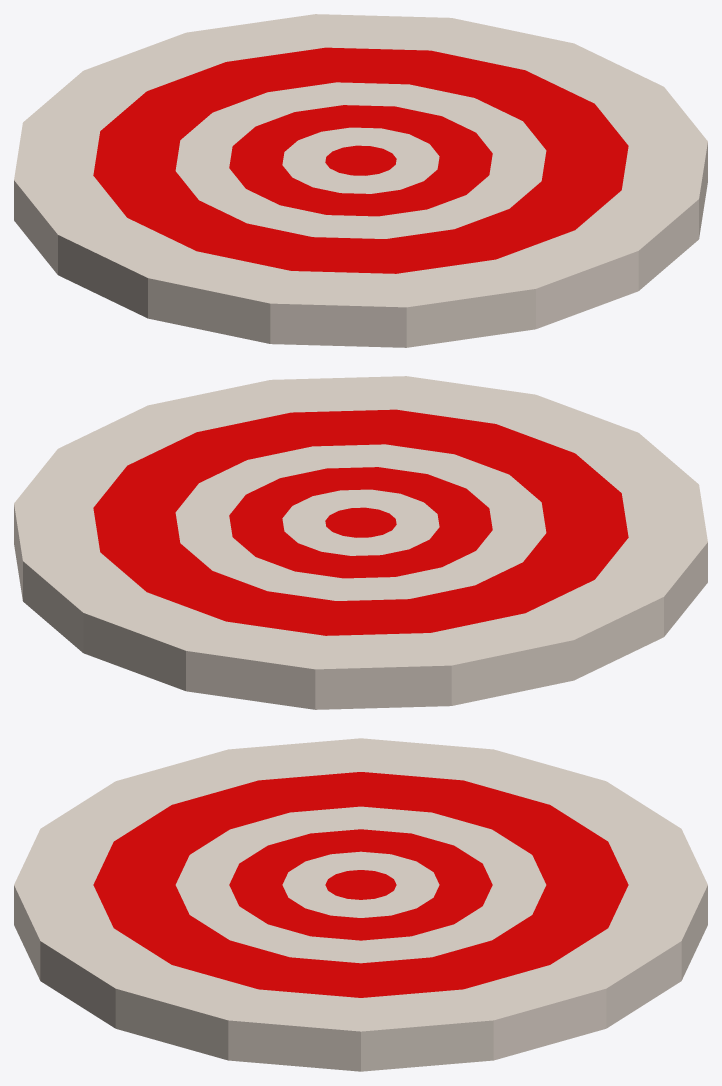
Rendered from Target.glb.
3 views of the same model, one above another, from view 1: azimuth 30°, elevation 25°; view 2: azimuth 150°, elevation 25°; view 3: azimuth 270°, elevation 25° (orthographic).
Parts seen in each view (by area): view 1: Cylinder; view 2: Cylinder; view 3: Cylinder.
Part boxes in pixels (bbox=[...]): Cylinder: bbox=[14, 14, 707, 347]; Cylinder: bbox=[14, 376, 707, 709]; Cylinder: bbox=[14, 738, 707, 1071].
Size of the model in its own units: 2 by 0.1276 by 2.
